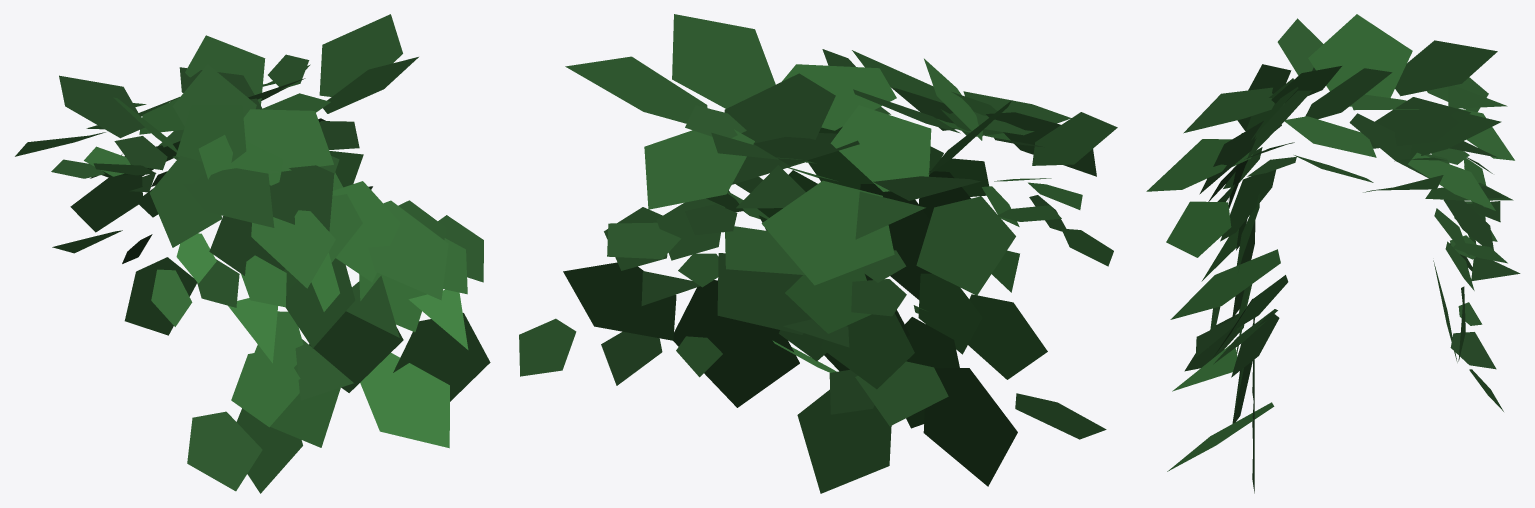
File: Plants_Ivy03.fbx
The picture shows the model from 3 angles, left to right: view 1: azimuth 30°, elevation 25°; view 2: azimuth 150°, elevation 25°; view 3: azimuth 270°, elevation 25°; orthographic projection. The views are drawn at different scales.
Parts seen in each view (by area): view 1: Plants_Ivy03; view 2: Plants_Ivy03; view 3: Plants_Ivy03.
Part boxes in pixels (x1,y1,x2,y2): Plants_Ivy03: (15, 14, 490, 493); Plants_Ivy03: (519, 14, 1117, 493); Plants_Ivy03: (1146, 14, 1520, 493).
Bounding box in the file's own units: 2.54 × 2.39 × 2.18.
